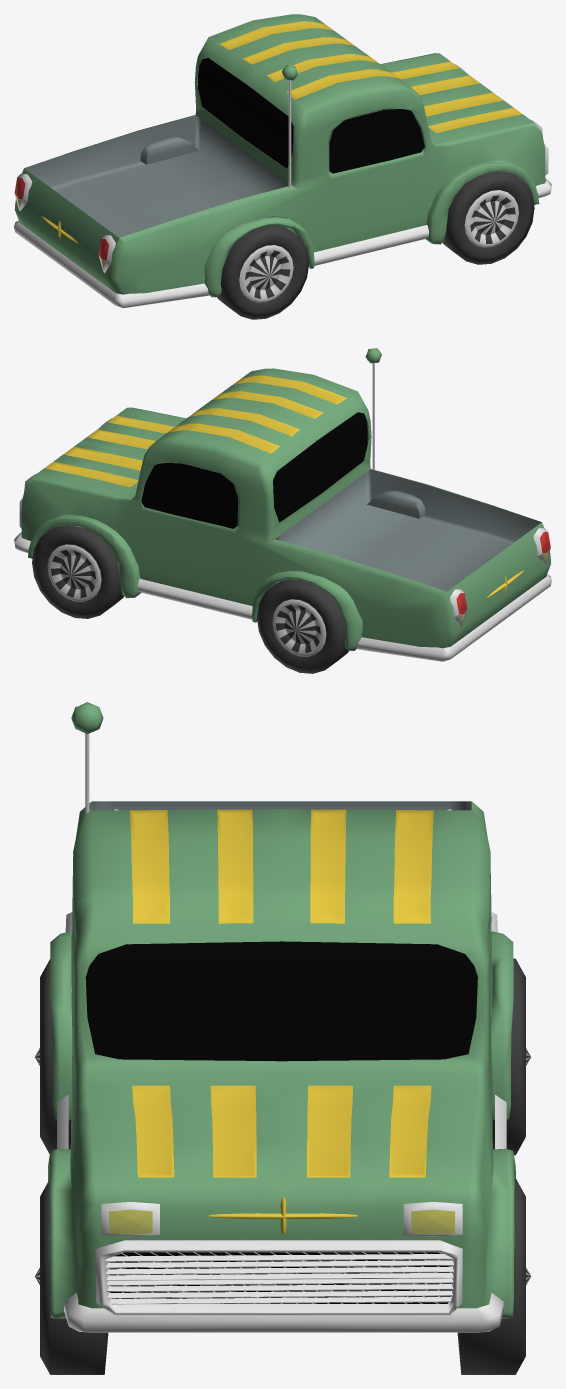
The model's file is Truck1.fbx.
3 renders of one model, top to bottom at view 1: azimuth 30°, elevation 25°; view 2: azimuth 150°, elevation 25°; view 3: azimuth 270°, elevation 25°, orthographic. The views are drawn at different scales.
Parts seen in each view (by area): view 1: Car1Body1, polySurface78, polySurface105, polySurface84, Car1Antenna, polySurface103, polySurface69; view 2: Car1Body1, polySurface78, polySurface105, polySurface84, Car1Antenna, polySurface69, polySurface103; view 3: Car1Body1, polySurface105, polySurface86, polySurface78, polySurface84, polySurface99, polySurface100, polySurface71, Car1Antenna, polySurface101.
Boxes of the visible parts, x1,y1,x2,y2 form: Car1Body1: (14,14,545,297); polySurface78: (217,171,534,319); polySurface105: (198,58,424,173); polySurface84: (14,178,551,308); Car1Antenna: (282,65,298,187); polySurface103: (14,173,32,210); polySurface69: (98,235,115,273); Car1Body1: (21,368,551,650); polySurface78: (32,525,348,673); polySurface105: (141,412,367,528); polySurface84: (14,532,551,661); Car1Antenna: (365,348,381,470); polySurface69: (533,528,550,565); polySurface103: (449,589,467,627); Car1Body1: (48,801,515,1318); polySurface105: (85,941,477,1061); polySurface86: (95,1240,462,1315); polySurface78: (35,958,530,1374); polySurface84: (57,912,506,1332); polySurface99: (109,1252,452,1303); polySurface100: (403,1202,462,1236); polySurface71: (101,1202,159,1236); Car1Antenna: (71,702,103,815); polySurface101: (208,1196,357,1234).
Bounding box in the file's own units: 9.95 × 5.09 × 4.82.
